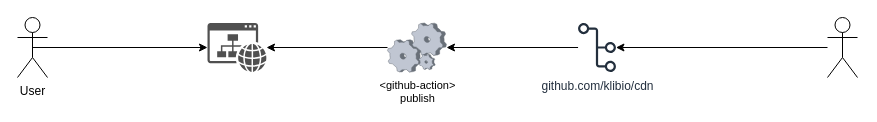
Image size: 877x122. Some labels were removed from this diagram. Here are the shapes that lost their labels. From the top down, the centre of each, then its label:
At (236,47): "cdn.klib.io".
At (842,47): "Admin".
